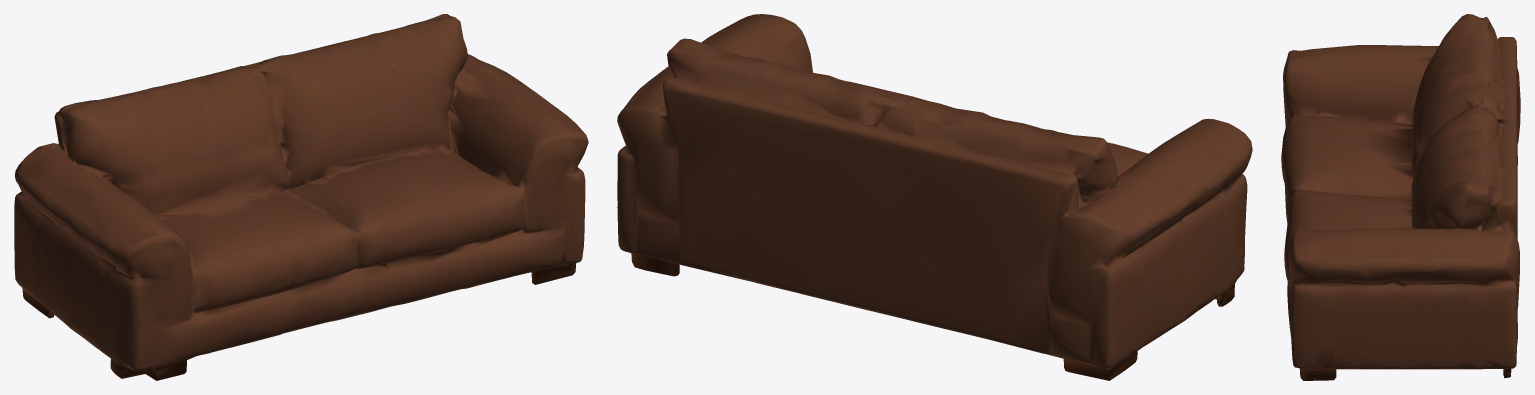
The model's file is un09snrxeB0cNZYqlfBdD.glb.
3 renders of one model, left to right at view 1: azimuth 30°, elevation 25°; view 2: azimuth 150°, elevation 25°; view 3: azimuth 270°, elevation 25°, orthographic. The views are drawn at different scales.
Parts seen in each view (by area): view 1: geometry_0; view 2: geometry_0; view 3: geometry_0.
Part boxes in pixels (box(x1,y1,x2,y2)): geometry_0: box(14, 14, 588, 380); geometry_0: box(617, 14, 1252, 380); geometry_0: box(1281, 14, 1520, 380).
Size of the model in its own units: 1 by 0.3971 by 0.4694.
Materials: 1 (1 with a texture image).
